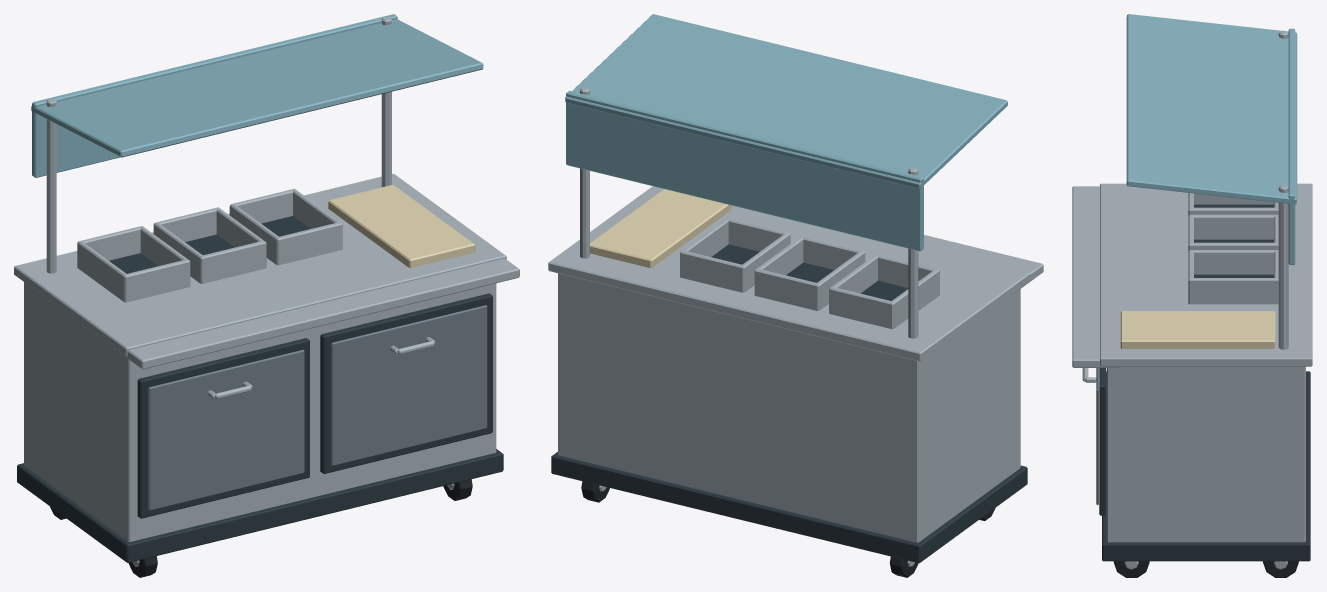
Rendered from b10_taco_preparation_service_station.glb.
3 renders of one model, left to right at view 1: azimuth 30°, elevation 25°; view 2: azimuth 150°, elevation 25°; view 3: azimuth 270°, elevation 25°, orthographic. The views are drawn at different scales.
Parts seen in each view (by area): view 1: b10_taco_preparation_service_station; view 2: b10_taco_preparation_service_station; view 3: b10_taco_preparation_service_station.
Boxes of the visible parts, <box> form: b10_taco_preparation_service_station: <box>14,14,519,577</box>; b10_taco_preparation_service_station: <box>548,14,1043,577</box>; b10_taco_preparation_service_station: <box>1072,14,1312,577</box>.
Size of the model in its own units: 1.5 by 1.62 by 0.87.
